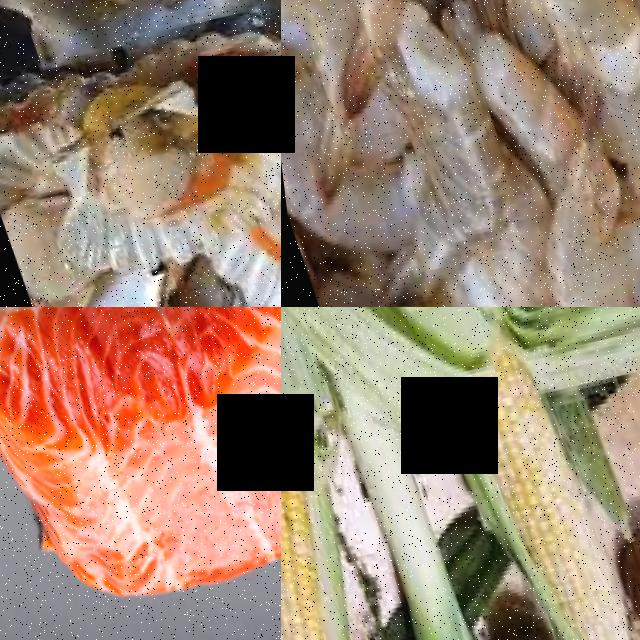salmon: (0, 307, 281, 636)
sea scallops: (73, 120, 192, 223)
shrimp: (344, 4, 518, 250), (569, 70, 640, 307), (479, 0, 640, 102)
